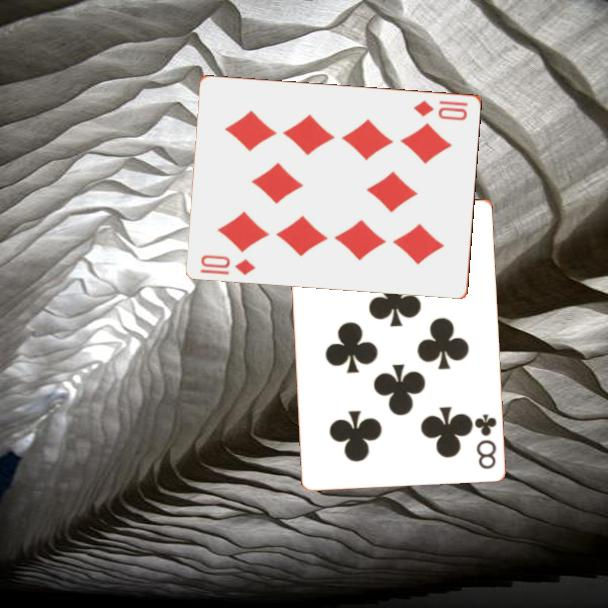c08: (471, 410, 499, 471)
d10: (197, 251, 259, 278), (410, 96, 471, 123)
